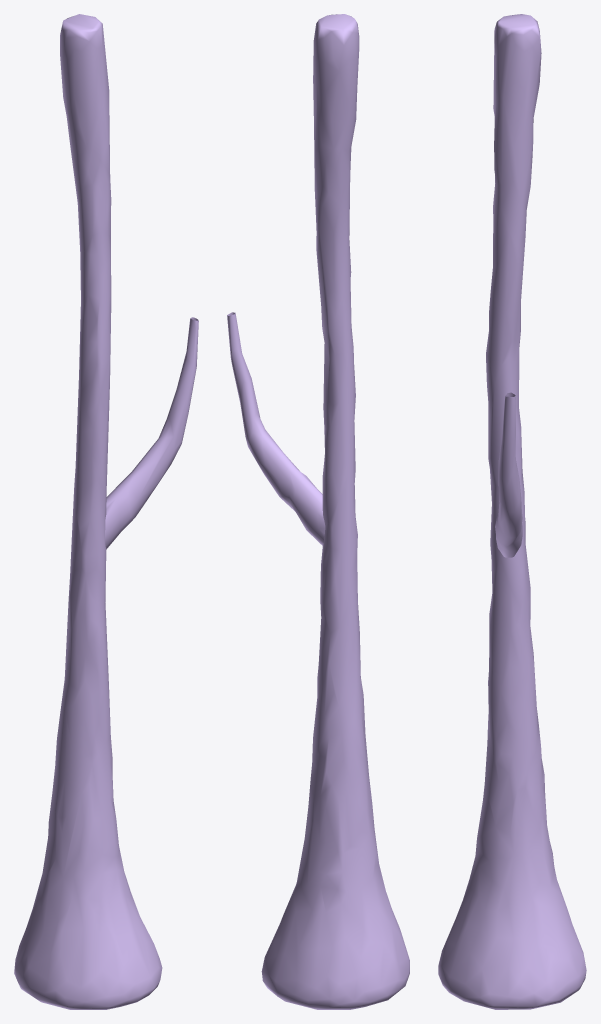
The model's file is SM_TreeTrunk01.fbx.
3 renders of one model, left to right at view 1: azimuth 30°, elevation 25°; view 2: azimuth 150°, elevation 25°; view 3: azimuth 270°, elevation 25°, orthographic.
Parts seen in each view (by area): view 1: SM_TreeTrunk01; view 2: SM_TreeTrunk01; view 3: SM_TreeTrunk01.
Part boxes in pixels (x1,y1,x2,y2): SM_TreeTrunk01: [14, 14, 198, 1009]; SM_TreeTrunk01: [227, 14, 409, 1009]; SM_TreeTrunk01: [438, 14, 586, 1009].
Size of the model in its own units: 73.37 by 391 by 54.75.
